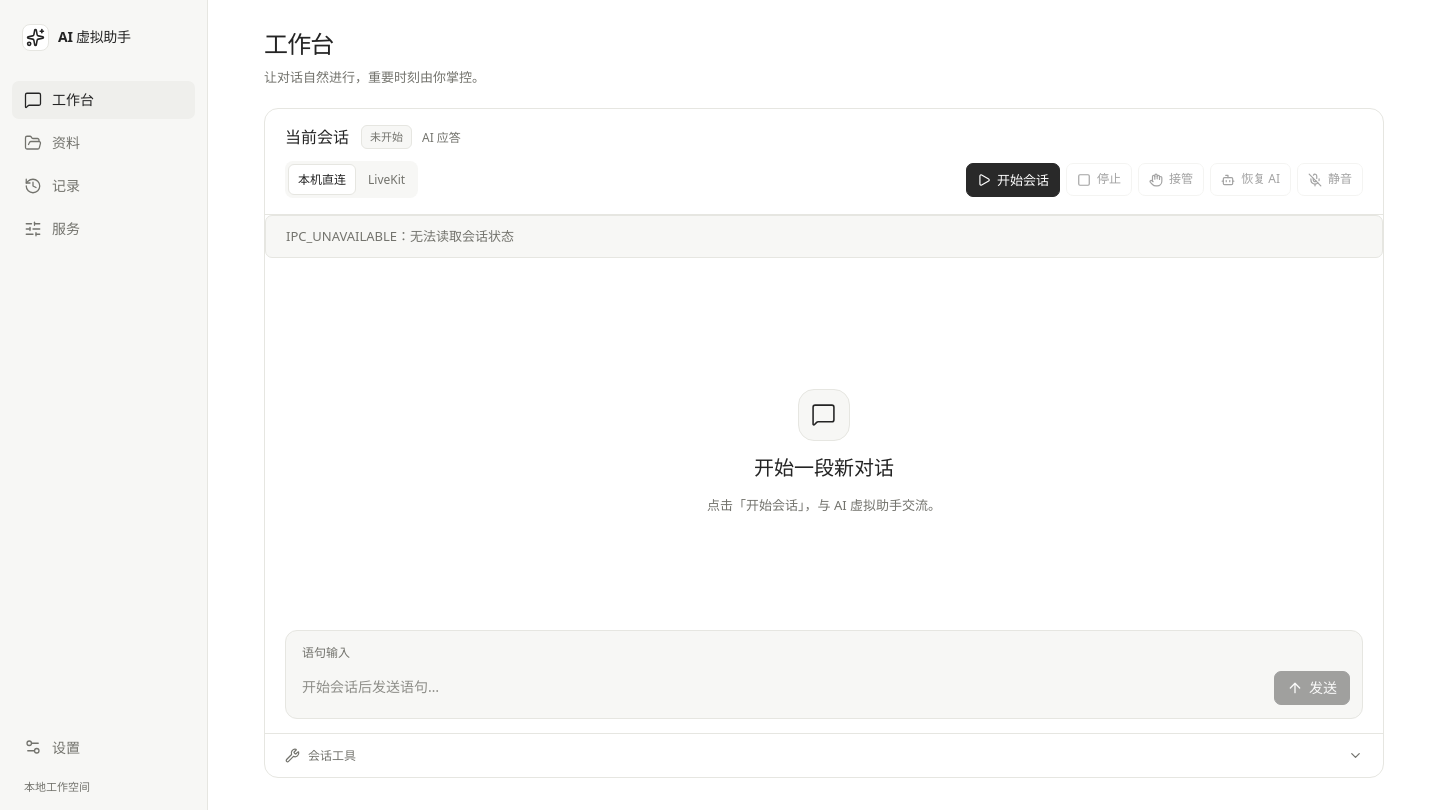
Test: Shell › clicking nav button changes the displayed page
Click the button "记录" at (104, 186), box x1=12 y1=167 x2=195 y2=205
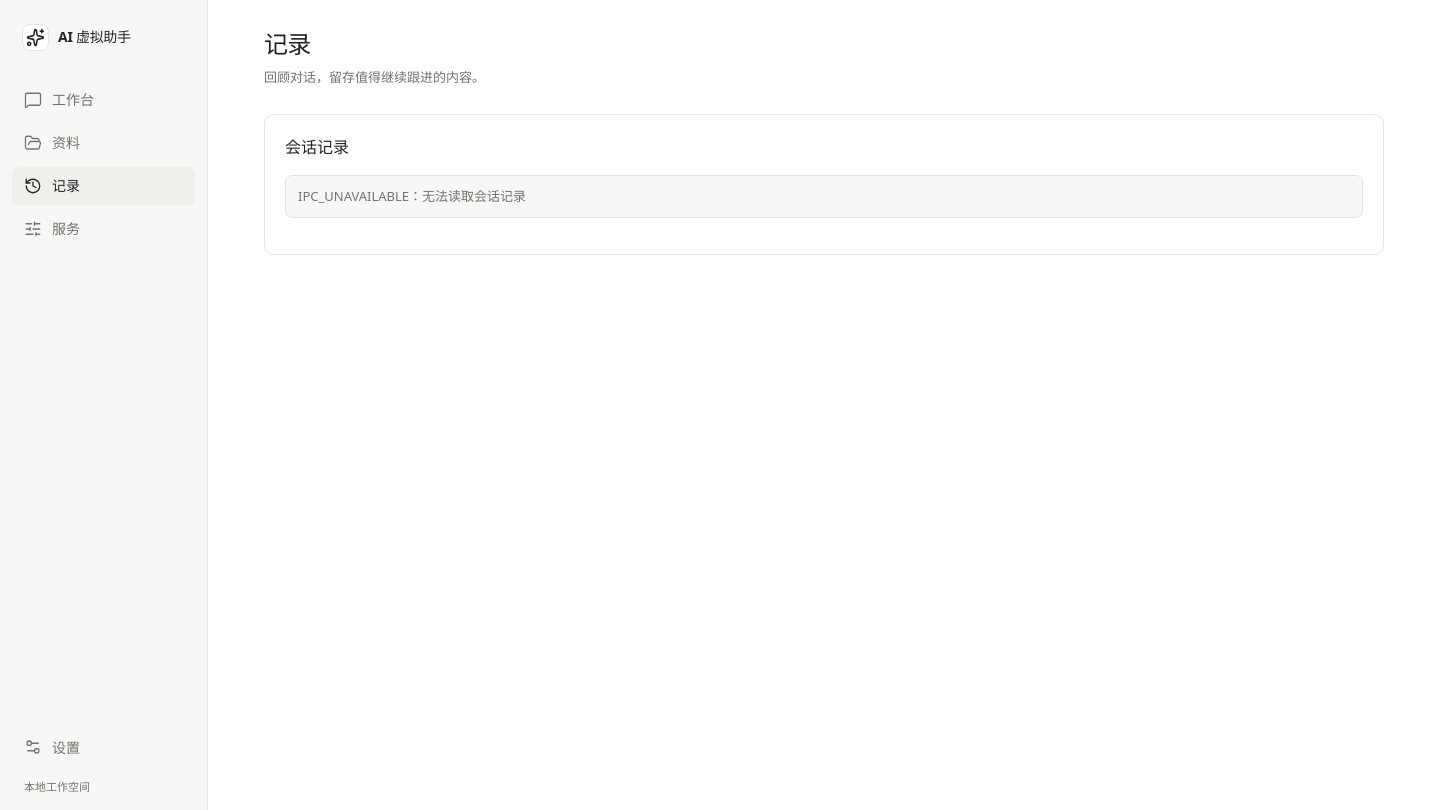
Check: the heading "记录" is shown, box x1=264 y1=27 x2=310 y2=60
